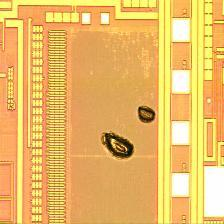PARTICLE: (100, 104, 158, 164)
